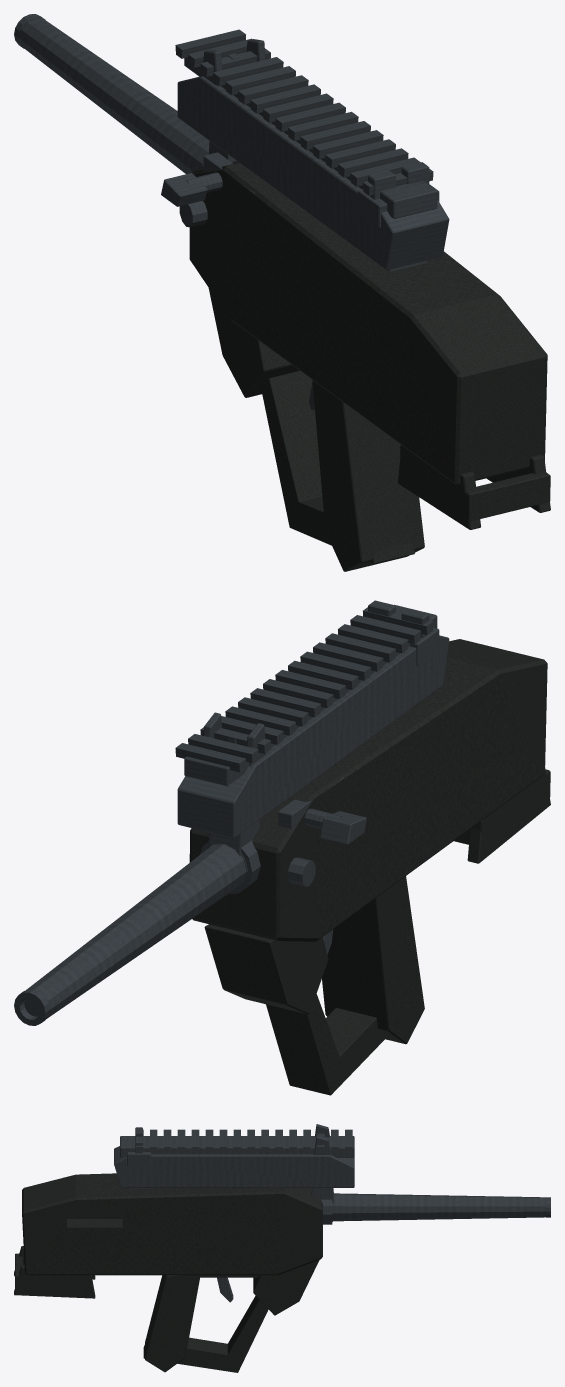
Rendered from weapon_auga3.glb.
3 renders of one model, top to bottom at view 1: azimuth 30°, elevation 25°; view 2: azimuth 150°, elevation 25°; view 3: azimuth 270°, elevation 25°, orthographic. The views are drawn at different scales.
Visible parts, largest first — view 1: body_LOD0, action_LOD0; view 2: body_LOD0, action_LOD0; view 3: body_LOD0.
Boxes of the visible parts, x1,y1,x2,y2 form: body_LOD0: (14, 14, 550, 571); action_LOD0: (161, 152, 254, 206); body_LOD0: (14, 600, 550, 1095); action_LOD0: (278, 777, 366, 844); body_LOD0: (14, 1124, 550, 1372).
Size of what is drawn, in the model's own units: 0.1415 by 0.4126 by 0.8475.
Materials: 1 (1 with a texture image).
